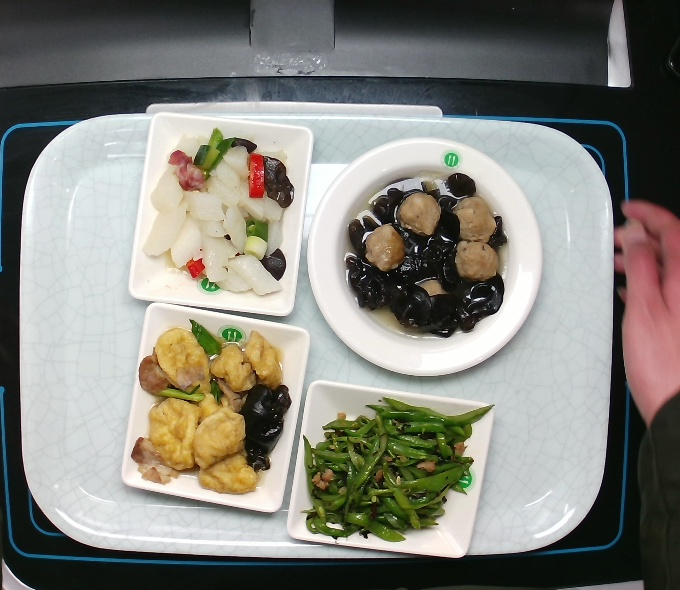wcq-MuErWanZi: (337, 159, 515, 336)
wcq-ShanYao: (144, 126, 305, 305)
wcq-SiJiDouChaoRou: (291, 396, 496, 540)
wcq-YouPaoRouPian: (124, 321, 302, 498)
